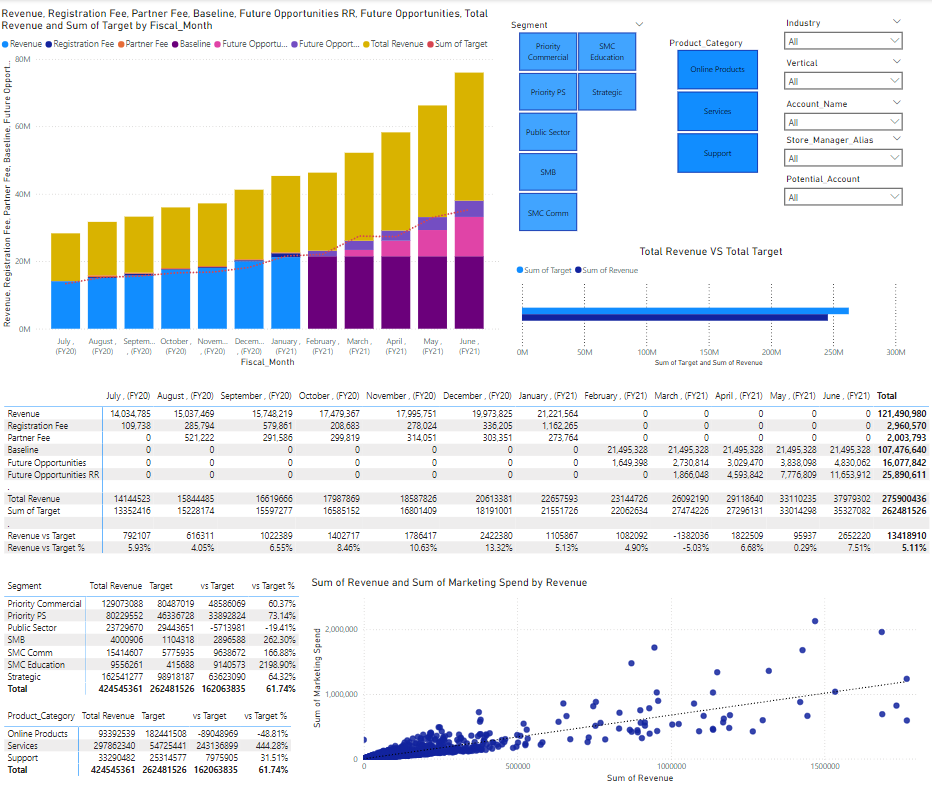

Layout of this report page (visuals, bound fields, positions):
{"tool":"powerbi","page":{"name":"Page 1","canvas":[1460,1250],"ordinal":0},"visuals":[{"type":"pivotTable","fields":{"Values":["_Measures.Revenue","_Measures.RegFee","_Measures.Partner Fee","_Measures.Baseline","_Measures.Future Opportunities","_Measures.Future Opportunities RR","_Measures.Empty","_Measures.Total Revenue","Sum(data.Target)","_Measures.empty 2","_Measures.Revenue vs Target","_Measures.Revenue vs Target %"],"Columns":["data.Fiscal_Month"]},"box":[4.4,603.3,1455.6,285.6],"z":0},{"type":"lineStackedColumnComboChart","fields":{"Category":["data.Fiscal_Month"],"Y":["_Measures.Revenue","_Measures.Registration Fee","_Measures.Partner Fee","_Measures.Baseline","_Measures.Future Opportunities RR","_Measures.Future Opportunities","_Measures.Total Revenue"],"Y2":["Sum(data.Target)"]},"box":[0,12.5,785.5,565.8],"z":1000},{"type":"slicer","fields":{"Values":["data.Segment"]},"box":[771.5,12.5,261.8,370.9],"z":2000},{"type":"slicer","fields":{"Values":["data.Industry"]},"box":[1215.7,23.4,204.2,62.3],"z":3000},{"type":"slicer","fields":{"Values":["data.Vertical"]},"box":[1215.7,85.7,204.2,63.9],"z":4000},{"type":"slicer","fields":{"Values":["data.Account_Name"]},"box":[1215.7,149.6,204.2,62.3],"z":5000},{"type":"slicer","fields":{"Values":["data.Potential_Account"]},"box":[1215.7,266.5,204.2,70.1],"z":6000},{"type":"slicer","fields":{"Values":["data.Store_Manager_Alias"]},"box":[1215.7,205.7,204.2,60.8],"z":7000},{"type":"clusteredBarChart","title":"Total Revenue VS Total Target","fields":{"Y":["Sum(data.Target)","Sum(data.Revenue)"]},"box":[802.7,383.4,617.2,194.8],"z":8000},{"type":"slicer","fields":{"Values":["data.Product_Category"]},"box":[1033.4,54.6,174.6,222.9],"z":9000},{"type":"pivotTable","fields":{"Rows":["data.Segment"],"Values":["_Measures.Total Revenue","Sum(data.Target)","_Measures.Revenue vs Target","_Measures.Revenue vs Target %"]},"box":[4.4,898.9,478.9,203.3],"z":10000},{"type":"pivotTable","fields":{"Rows":["data.Product_Category"],"Values":["_Measures.Total Revenue","Sum(data.Target)","_Measures.Revenue vs Target","_Measures.Revenue vs Target %"]},"box":[4.4,1102.2,568.9,124.4],"z":11000},{"type":"scatterChart","fields":{"Y":["Sum(data.Marketing Spend)"],"X":["Sum(data.Revenue)"],"Category":["data.Revenue"]},"box":[483.3,898.9,976.7,327.8],"z":12000}]}

Visuals, with their boxes in screenshot pixels (x1, y1, x2, y2), scaled from the page's 1460x1250 canvas onto the 932x800 screenshot:
pivotTable - _Measures.Revenue x _Measures.RegFee: box=[3, 386, 931, 569]
lineStackedColumnComboChart - data.Fiscal_Month x _Measures.Revenue: box=[0, 8, 501, 370]
slicer - data.Segment: box=[492, 8, 660, 245]
slicer - data.Industry: box=[776, 15, 906, 55]
slicer - data.Vertical: box=[776, 55, 906, 96]
slicer - data.Account_Name: box=[776, 96, 906, 136]
slicer - data.Potential_Account: box=[776, 171, 906, 215]
slicer - data.Store_Manager_Alias: box=[776, 132, 906, 171]
"Total Revenue VS Total Target" clusteredBarChart: box=[512, 245, 906, 370]
slicer - data.Product_Category: box=[660, 35, 771, 178]
pivotTable - data.Segment x _Measures.Total Revenue: box=[3, 575, 309, 705]
pivotTable - data.Product_Category x _Measures.Total Revenue: box=[3, 705, 366, 785]
scatterChart - Sum(data.Marketing Spend) x Sum(data.Revenue): box=[309, 575, 931, 785]
